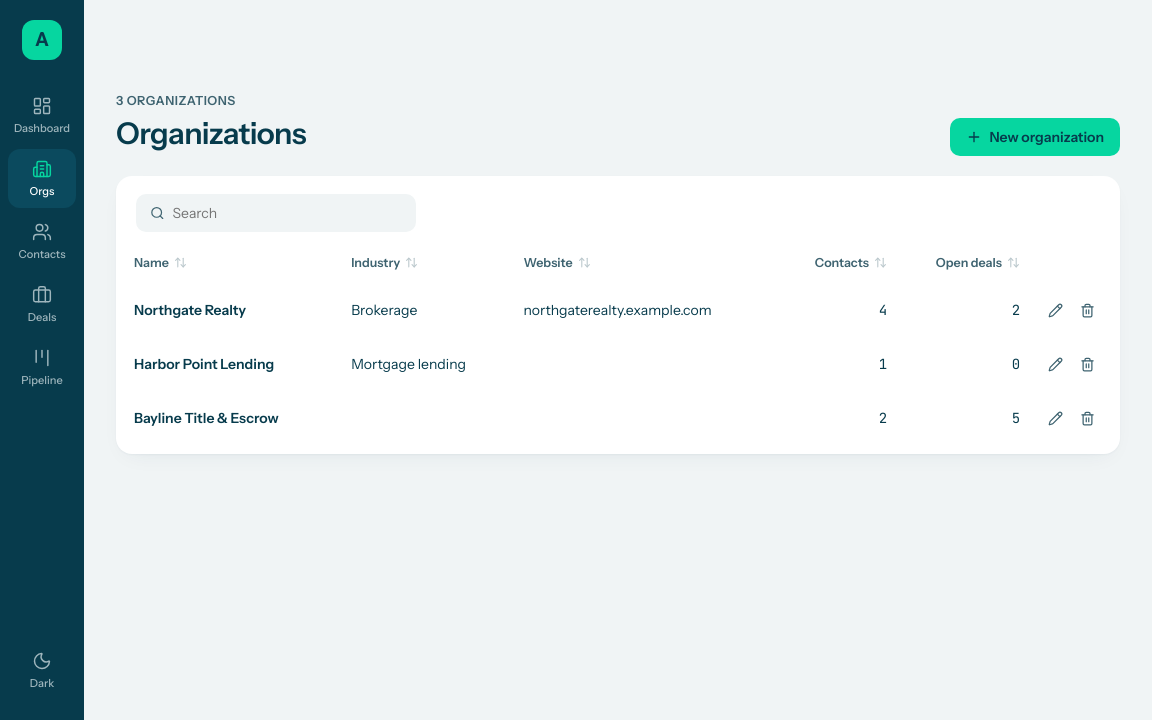
Test case: the organizations list › finds organizations by industry or website
Type "mortgage" into the search field named "Search organizations" at coordinates (287, 213), box [173, 203, 402, 223]
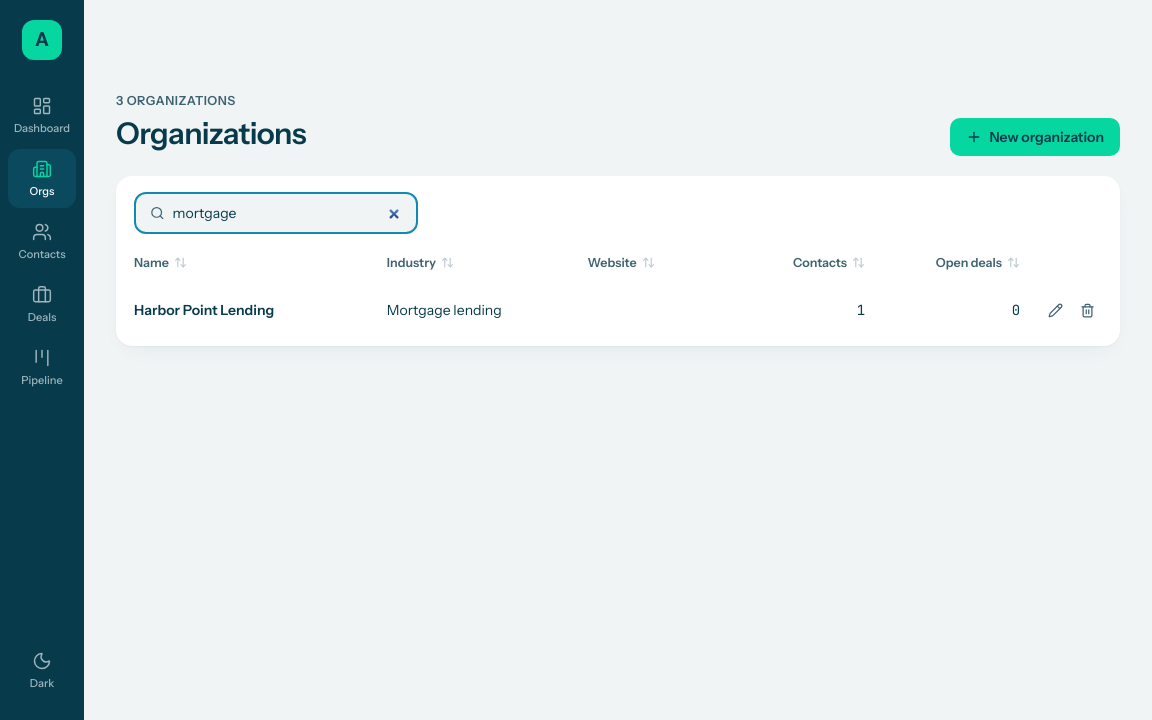
Replace the text in the search field named "Search organizations" with "example.com" at coordinates (287, 213), box [173, 203, 402, 223]
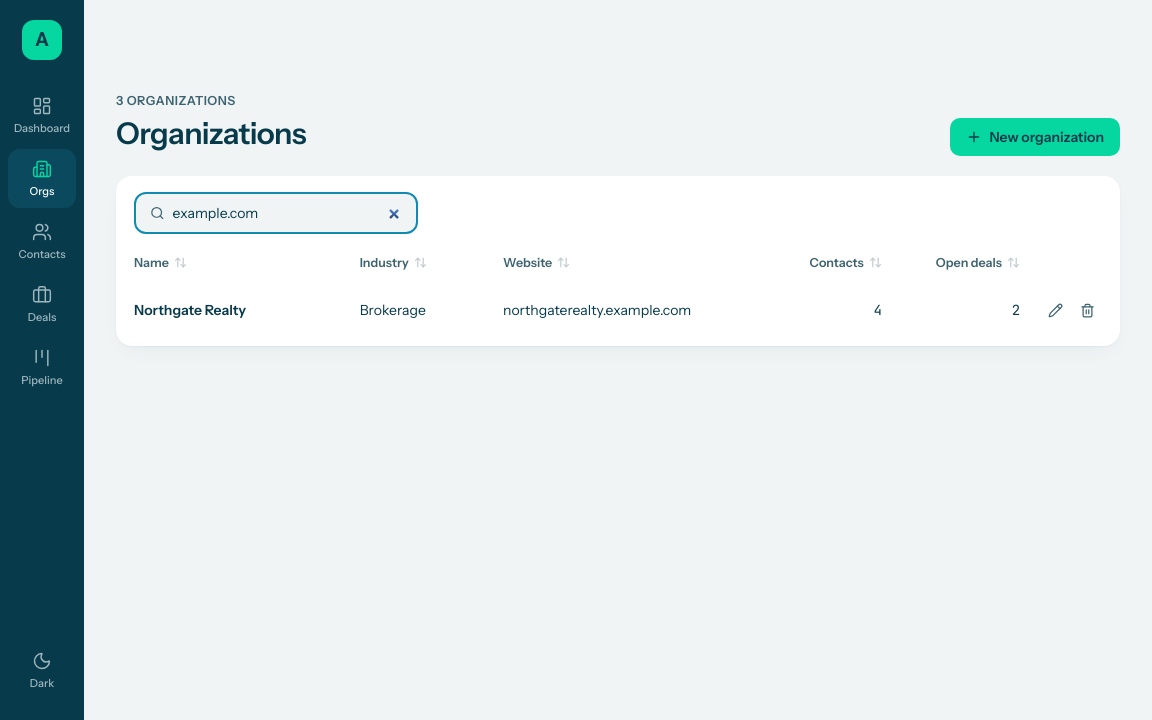
Replace the text in the search field named "Search organizations" with "zzz" at coordinates (287, 213), box [173, 203, 402, 223]
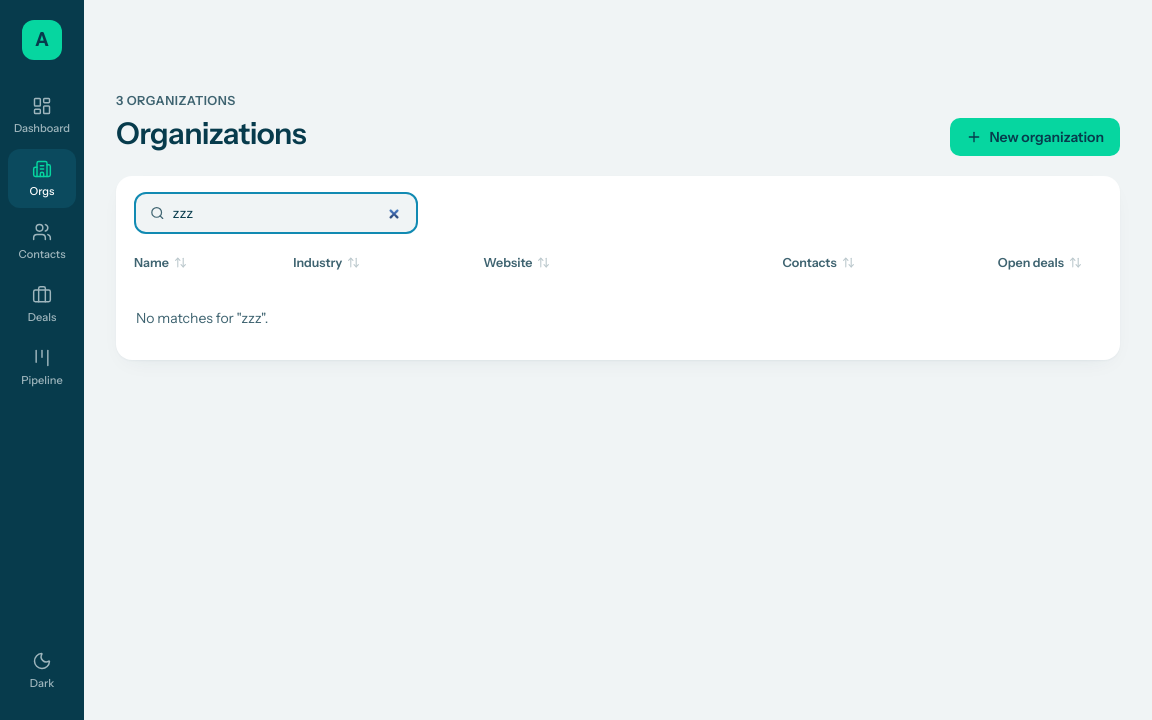
Result: the text "No matches for \"zzz\"." is shown at [136, 309, 268, 327]
